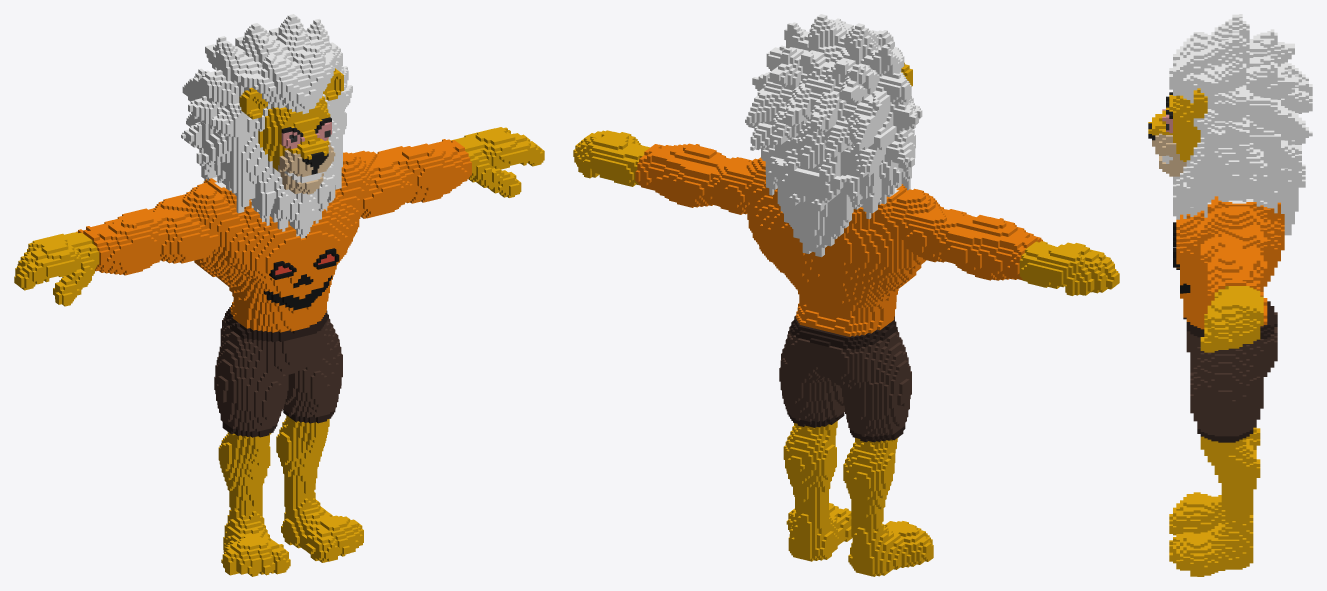
Rendered from 665-Bh6rpssW.fbx.
The picture shows the model from 3 angles, left to right: view 1: azimuth 30°, elevation 25°; view 2: azimuth 150°, elevation 25°; view 3: azimuth 270°, elevation 25°; orthographic projection. The views are drawn at different scales.
Visible parts, largest first — view 1: big_smile; view 2: big_smile; view 3: big_smile.
Part boxes in pixels (x1,y1,x2,y2): big_smile: [14, 14, 544, 576]; big_smile: [573, 14, 1119, 576]; big_smile: [1148, 14, 1312, 576].
Bounding box in the file's own units: 17.2 × 16.5 × 4.7.
Materials: 5 (5 with a texture image).
